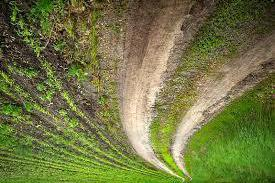vehicle_track: (112, 0, 215, 180), (172, 19, 273, 179)
